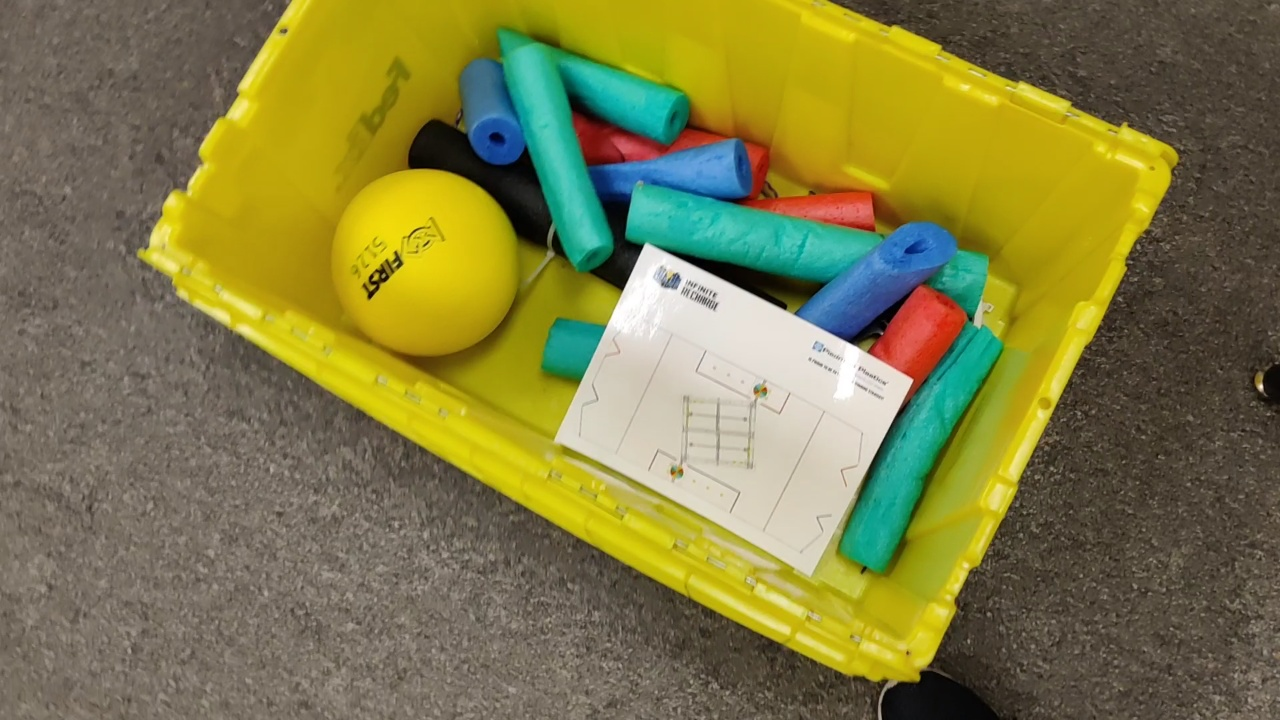Ball: (325, 167, 522, 349)
